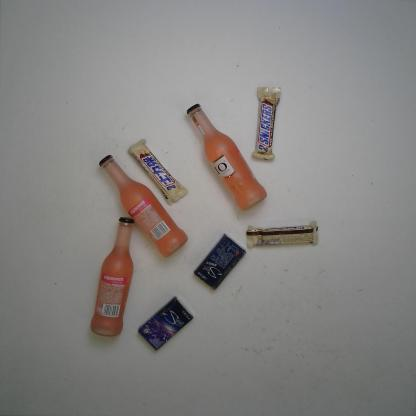Alcohol: (98, 154, 187, 258), (185, 102, 267, 211), (88, 216, 136, 337)
Chocolate: (126, 138, 188, 204), (250, 85, 282, 162), (245, 220, 320, 249)
Gum: (138, 294, 194, 352), (194, 232, 246, 291)
